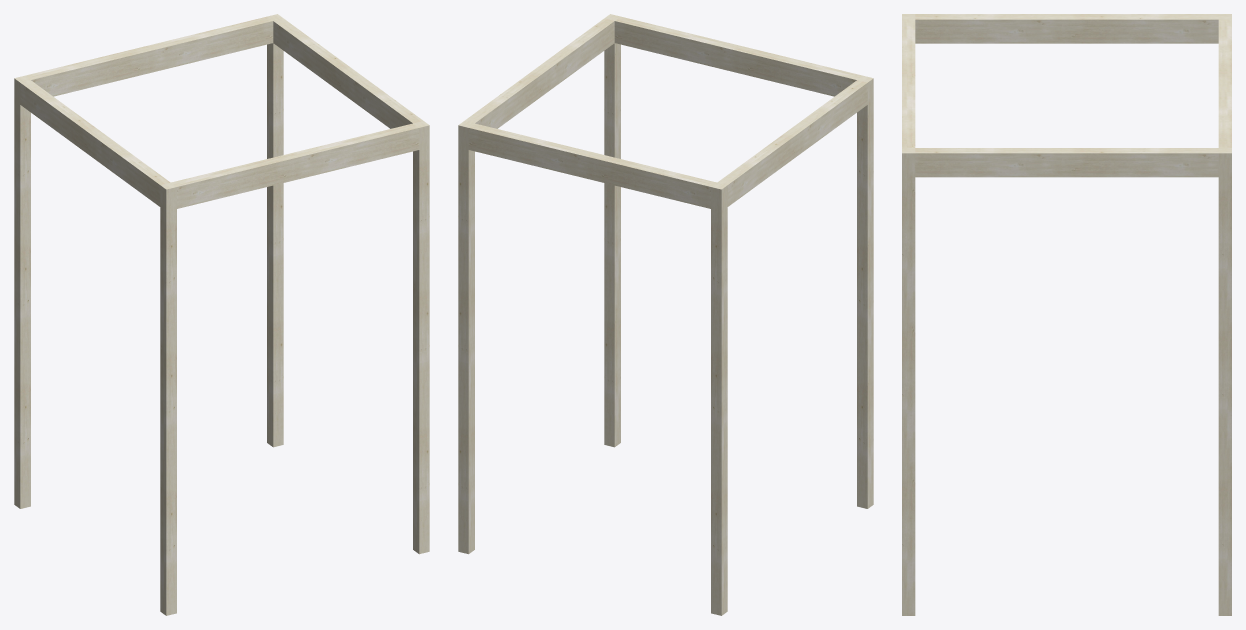
Rendered from fp-dokurtu_1k-6s_whitepine.fbx.
3 views of the same model, side by side, from view 1: azimuth 30°, elevation 25°; view 2: azimuth 150°, elevation 25°; view 3: azimuth 270°, elevation 25° (orthographic). The views are drawn at different scales.
Visible parts, largest first — view 1: fp-dokurtu_1k-6s_whitepine; view 2: fp-dokurtu_1k-6s_whitepine; view 3: fp-dokurtu_1k-6s_whitepine.
Part boxes in pixels (<box>): fp-dokurtu_1k-6s_whitepine: <box>14,14,429,615</box>; fp-dokurtu_1k-6s_whitepine: <box>458,14,873,615</box>; fp-dokurtu_1k-6s_whitepine: <box>902,14,1231,615</box>.
Size of the model in its own units: 187 by 290 by 187.
1 material, 1 textured.
